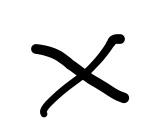mult: (31, 34, 129, 118)
